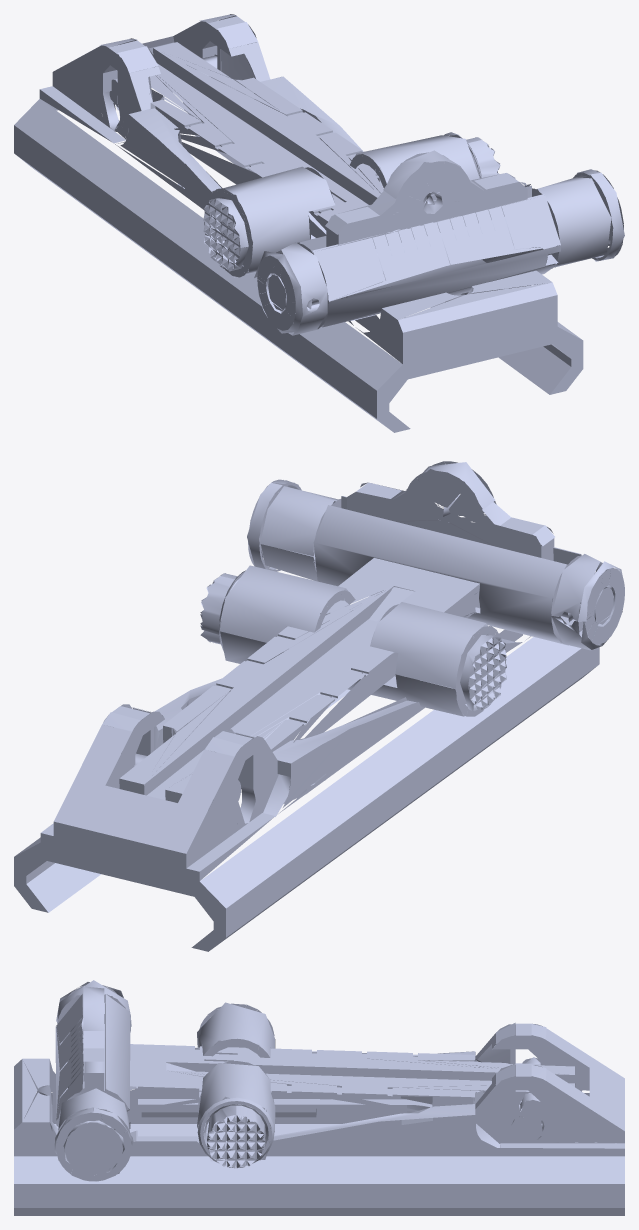
File: AK12_IronSight.glb
3 renders of one model, top to bottom at view 1: azimuth 30°, elevation 25°; view 2: azimuth 150°, elevation 25°; view 3: azimuth 270°, elevation 25°, orthographic. The views are drawn at different scales.
Parts seen in each view (by area): view 1: AK12_IronSight; view 2: AK12_IronSight; view 3: AK12_IronSight.
Boxes of the visible parts, x1,y1,x2,y2 form: AK12_IronSight: (14, 14, 624, 432); AK12_IronSight: (14, 461, 624, 951); AK12_IronSight: (14, 980, 624, 1215).
Size of the model in its own units: 0.0386 by 0.0248 by 0.0732.
